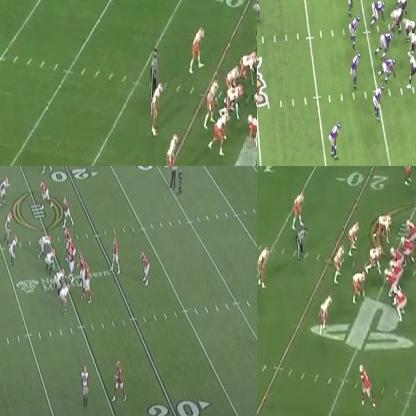CENTER: (66, 243, 74, 274), (389, 248, 402, 265), (391, 10, 401, 30)
DB: (188, 28, 203, 69), (152, 85, 164, 133), (257, 246, 270, 290), (329, 122, 341, 160), (294, 191, 304, 228), (167, 132, 178, 165), (373, 85, 383, 119), (82, 366, 90, 406), (0, 177, 8, 205), (404, 166, 415, 186), (257, 0, 262, 23)
LB: (319, 294, 332, 336), (334, 243, 344, 285), (350, 218, 361, 254), (349, 52, 359, 90), (207, 82, 215, 120), (349, 17, 359, 44), (10, 236, 17, 268), (4, 214, 11, 244), (227, 63, 239, 80), (345, 0, 358, 14)
QB: (112, 238, 120, 275)
SKILL: (360, 364, 375, 408), (392, 284, 407, 322), (116, 361, 126, 401), (140, 252, 149, 286), (63, 198, 72, 228), (40, 180, 50, 206), (407, 53, 415, 85)
